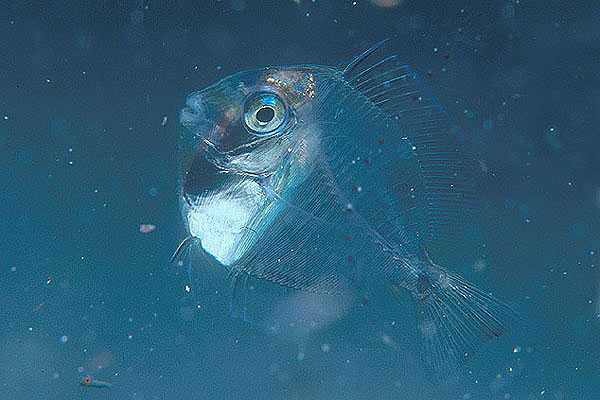Acanthurus_coeruleus: (159, 47, 504, 365)
